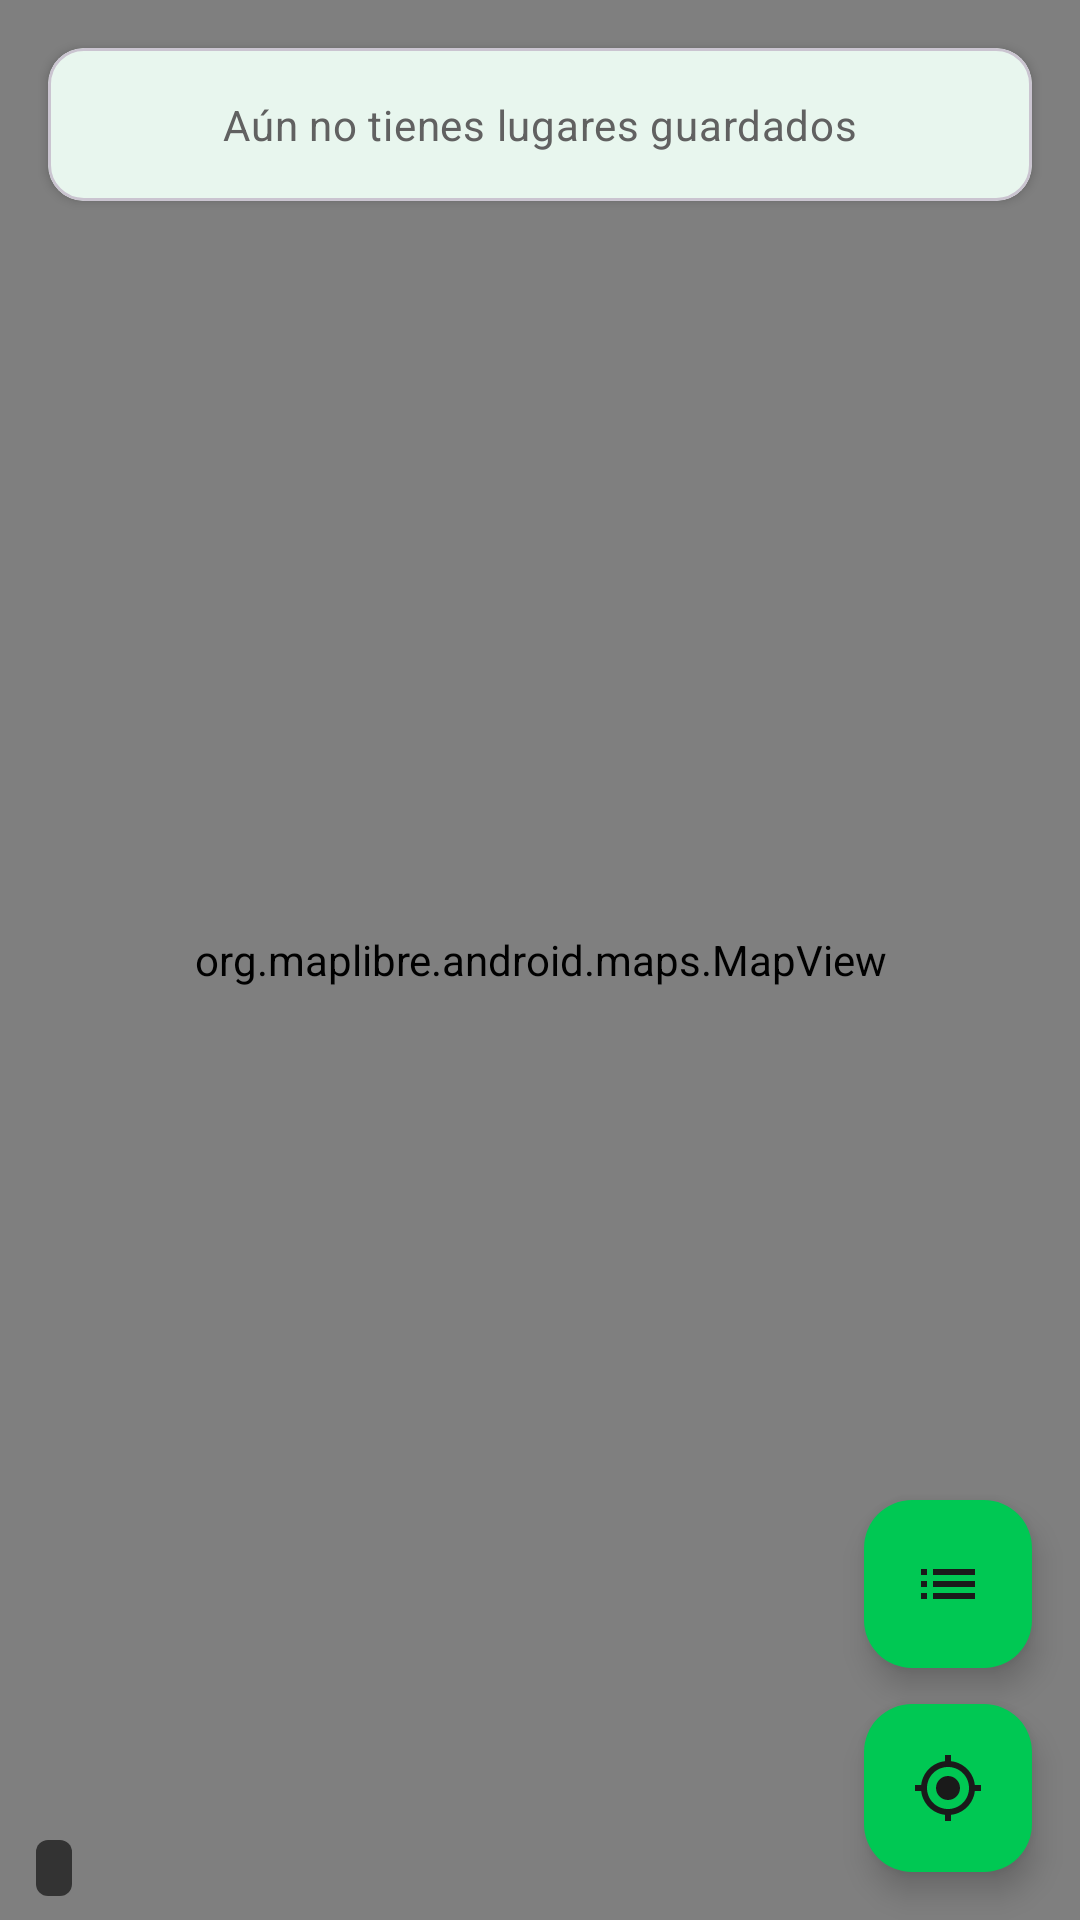

Icon click points for this 1080*1920 phone screenshot, format (x=x, y=y):
Mi ubicación: (x=948, y=1788)
Mis lugares: (x=948, y=1584)
